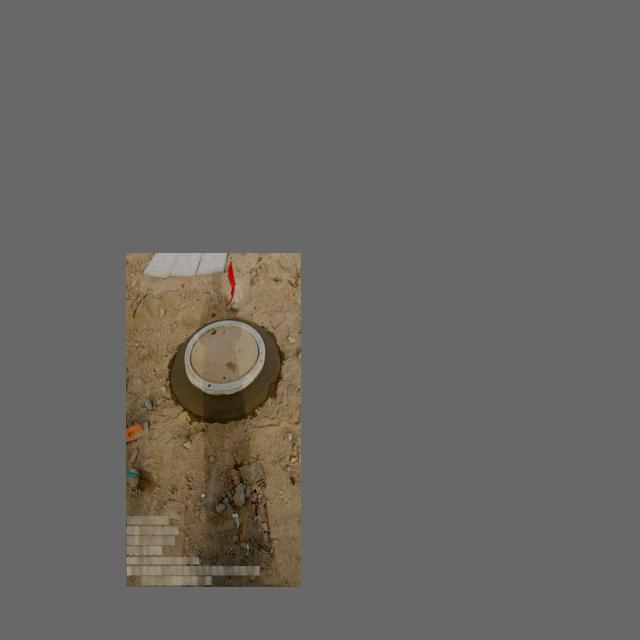good: (184, 319, 265, 394)
